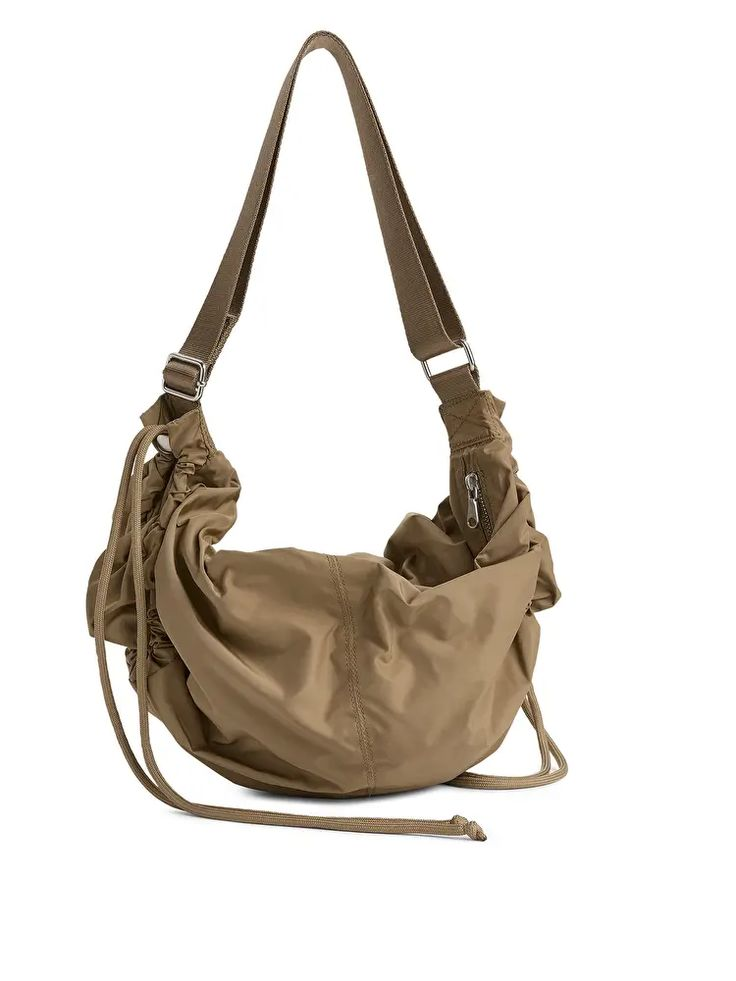nylon: (85, 29, 561, 797)
